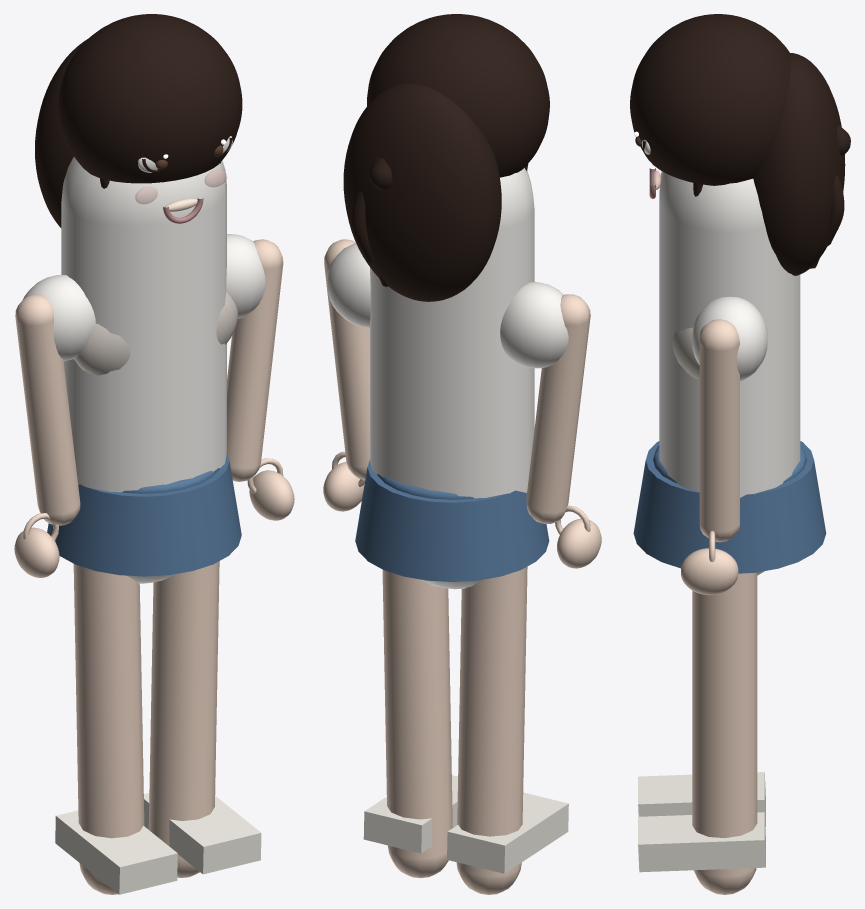
File: junior_2005_runtime.glb
The picture shows the model from 3 angles, left to right: view 1: azimuth 30°, elevation 25°; view 2: azimuth 150°, elevation 25°; view 3: azimuth 270°, elevation 25°; orthographic projection.
Visible parts, largest first — view 1: torso_main, leg_l (×2), hair_cap, arm_l (×2), shorts_hip, shoe_l (×2), shirt_sleeve_l (×2), hair_back, hand_l (×2), torso_chest, shorts_waistband; view 2: leg_l (×2), torso_main, hair_back, hair_cap, shorts_hip, arm_l (×2), shoe_l (×2), shirt_sleeve_l (×2), hand_l (×2), hair_pony_strand_1, shorts_waistband, hair_pony_base; view 3: torso_main, hair_cap, leg_l, shorts_hip, hair_back, arm_l, shoe_l (×2), shirt_sleeve_l, hand_l, torso_chest, hair_pony_strand_1, shorts_waistband.
Part boxes in pixels (x1,y1,x2,y2): torso_main: (61,157,226,583); leg_l (×2): (73,561,219,894); hair_cap: (58,14,242,183); arm_l (×2): (15,239,283,525); shorts_hip: (47,453,241,576); shoe_l (×2): (55,793,261,894); shirt_sleeve_l (×2): (23,234,265,361); hair_back: (35,39,87,227); hand_l (×2): (14,470,294,577); torso_chest: (74,292,237,375); shorts_waistband: (122,468,219,493); leg_l (×2): (382,566,527,894); torso_main: (370,168,534,589); hair_back: (343,83,501,301); hair_cap: (367,14,549,177); shorts_hip: (355,459,549,581); arm_l (×2): (324,239,590,523); shoe_l (×2): (363,775,568,873); shirt_sleeve_l (×2): (326,243,568,368); hand_l (×2): (323,462,601,568); hair_pony_strand_1: (351,191,374,262); shorts_waistband: (377,474,473,499); hair_pony_base: (369,157,392,190); torso_main: (659,171,800,575); hair_cap: (630,14,790,185); leg_l: (692,572,757,894); shorts_hip: (633,441,826,573); hair_back: (753,53,845,275); arm_l: (699,319,739,542); shoe_l (×2): (638,772,765,872); shirt_sleeve_l: (692,296,767,380); hand_l: (681,548,738,595); torso_chest: (672,327,699,379); hair_pony_strand_1: (823,173,844,246); shorts_waistband: (653,445,806,483).
Size of the model in its own units: 0.6048 by 1.85 by 0.4358.
